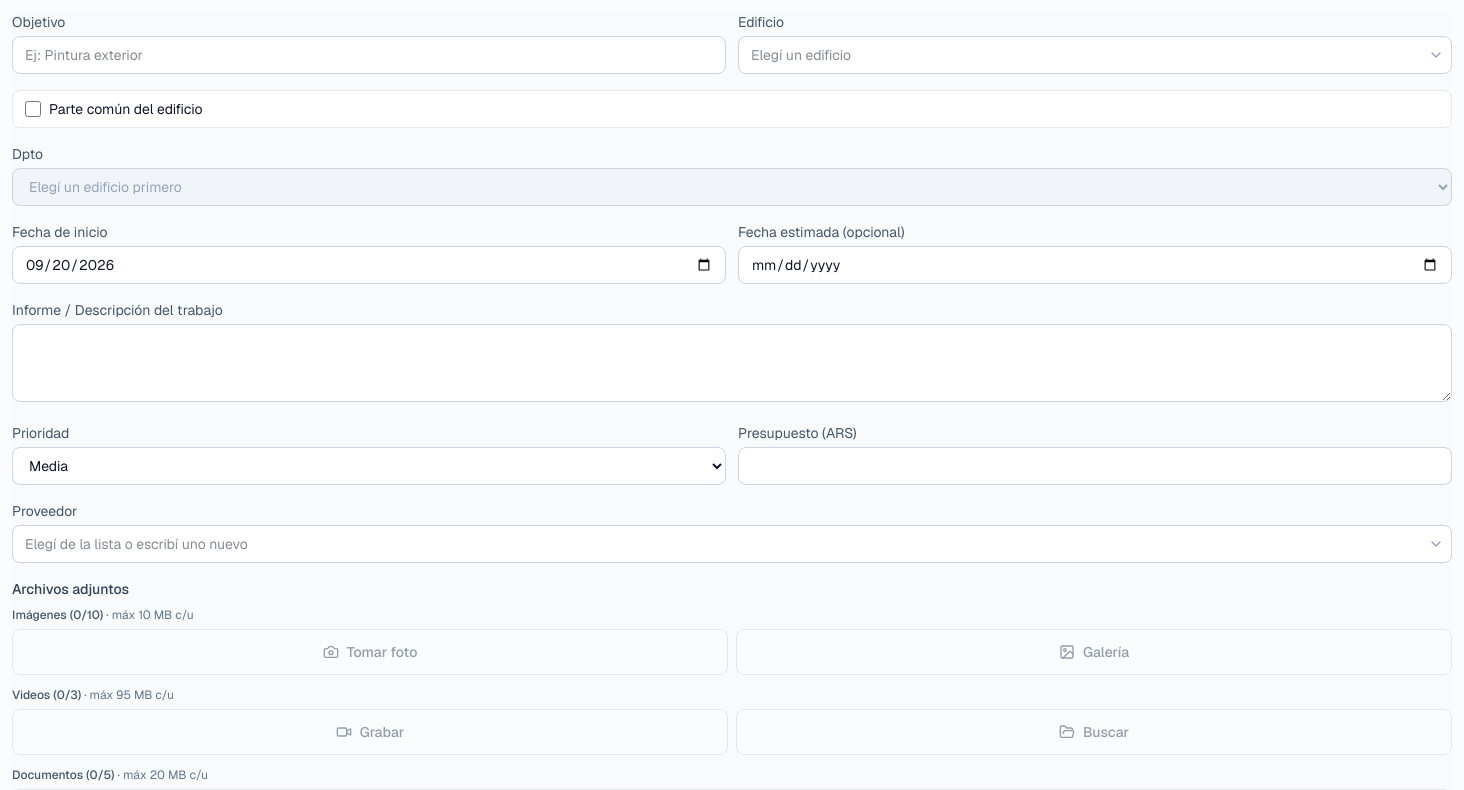
Test: TareaForm (componente) › carga los edificios en el combobox desde la API
The width and height of the screenshot is (1464, 790).
Click the dropdown with placeholder "Elegí un edificio". click: (1095, 55)
box: [738,36,1452,74]
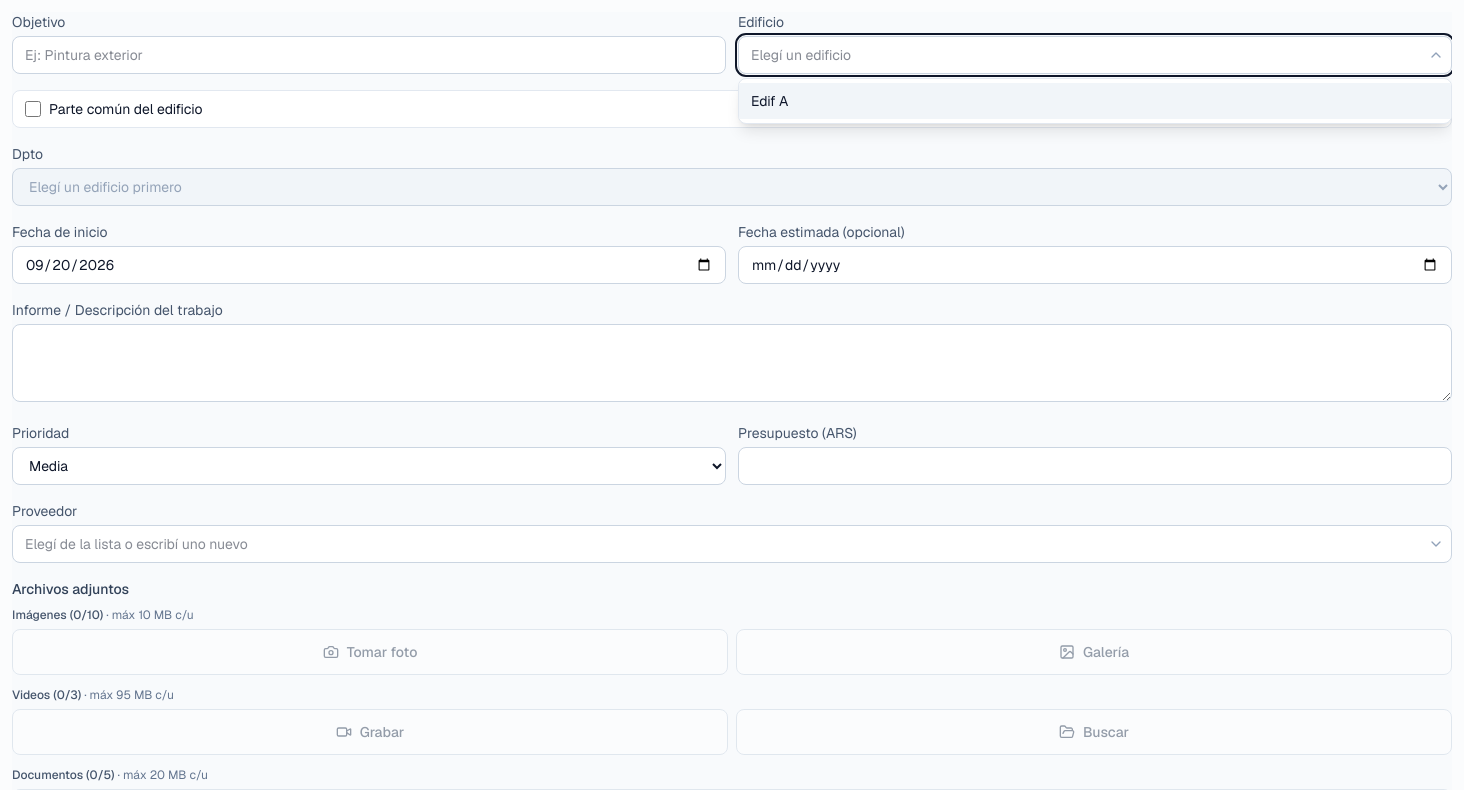
Result: the option "Edif A" is shown at [739,83,1451,119]
